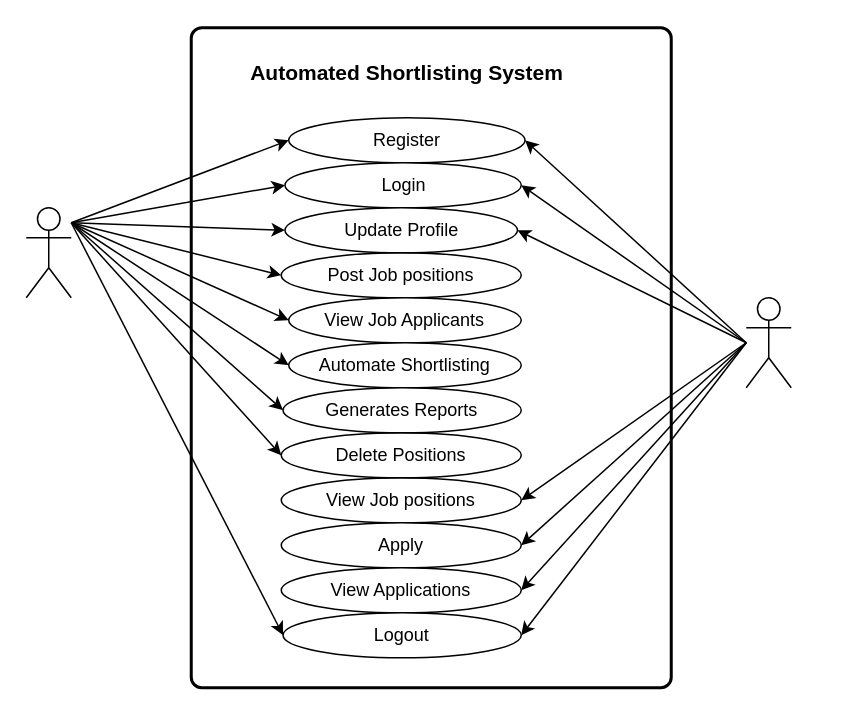
Image size: 848x714. Some labels were removed from this diagram. Each missing label, with the centre of its shape:
HR: pixel 48 252
Job Applicant: pixel 768 342
